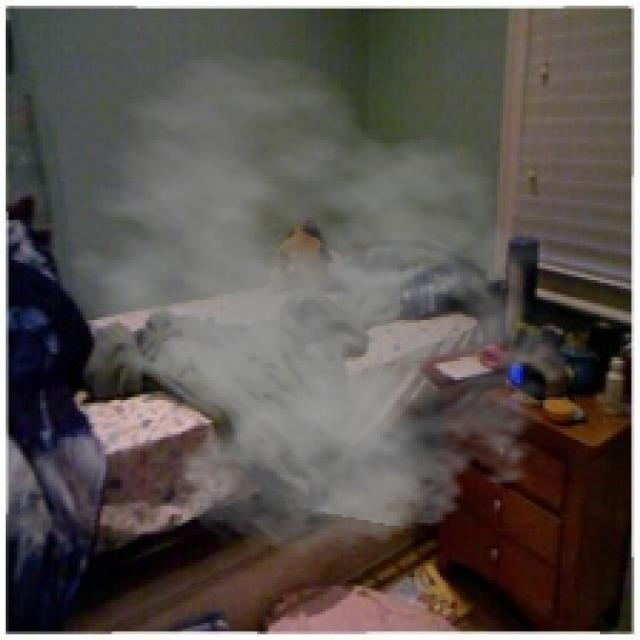Smoke: (46, 48, 588, 566)
